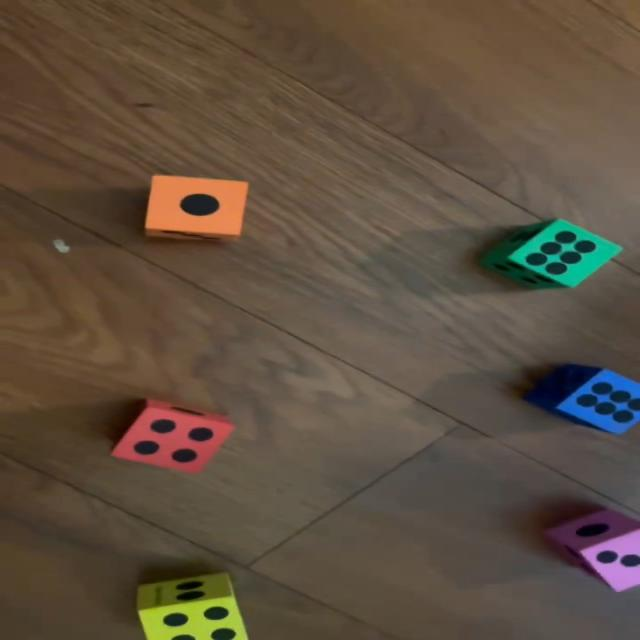blue_block: (526, 364, 640, 434)
red_block: (109, 398, 231, 473)
